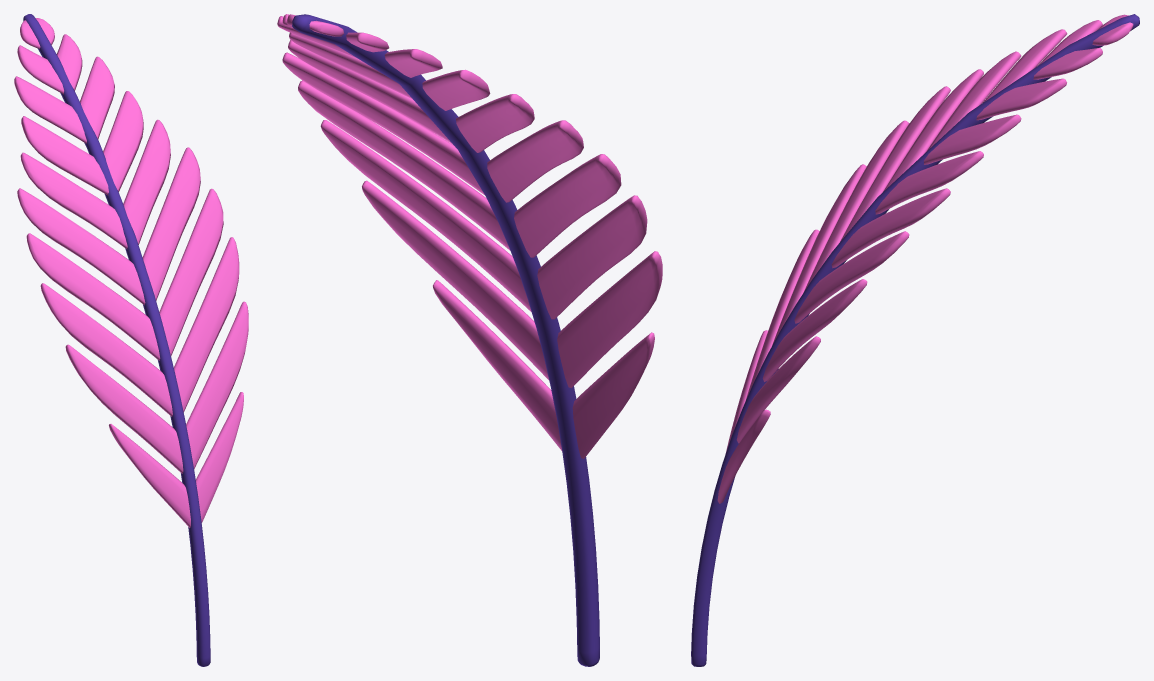
The model's file is Purple_Leaf.fbx.
The picture shows the model from 3 angles, left to right: view 1: azimuth 30°, elevation 25°; view 2: azimuth 150°, elevation 25°; view 3: azimuth 270°, elevation 25°; orthographic projection. The views are drawn at different scales.
Visible parts, largest first — view 1: Plane.014; view 2: Plane.014; view 3: Plane.014.
Part boxes in pixels (x1,y1,x2,y2): Plane.014: [14, 14, 248, 666]; Plane.014: [277, 14, 662, 666]; Plane.014: [691, 14, 1139, 666].
Size of the model in its own units: 133 by 343 by 215.
